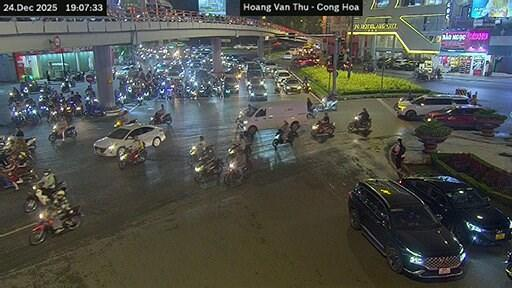motorbike: (22, 181, 64, 211), (28, 210, 54, 243), (194, 157, 223, 181), (118, 148, 146, 169), (186, 144, 213, 165), (58, 206, 82, 229), (224, 161, 246, 184), (310, 121, 333, 142), (272, 129, 297, 148), (348, 115, 371, 130), (83, 100, 103, 116), (226, 143, 242, 162), (313, 99, 336, 111), (150, 112, 170, 124), (48, 126, 61, 142), (11, 112, 25, 126), (114, 118, 137, 126), (505, 251, 511, 279), (25, 136, 35, 151), (64, 126, 76, 138), (60, 80, 69, 91), (301, 81, 310, 91)
